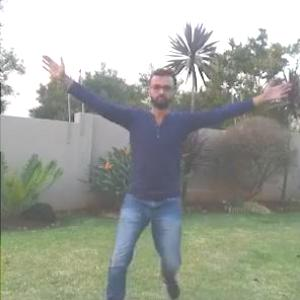takeoff: (41, 52, 295, 284)
